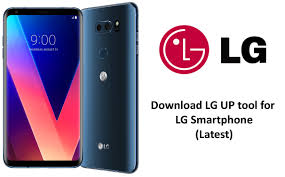lg: (1, 6, 83, 169), (83, 1, 140, 176)
